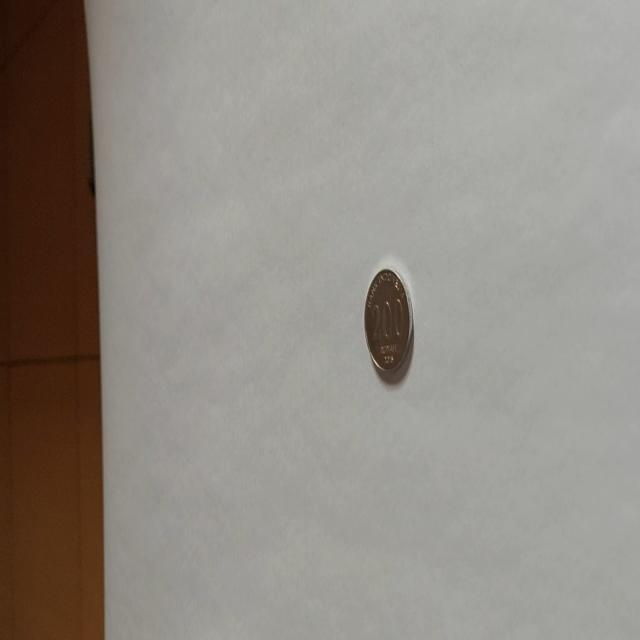dua ratus rupiah: (363, 266, 413, 376)
